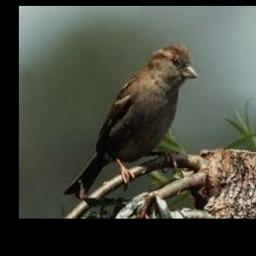Sparrow: (64, 42, 197, 199)
